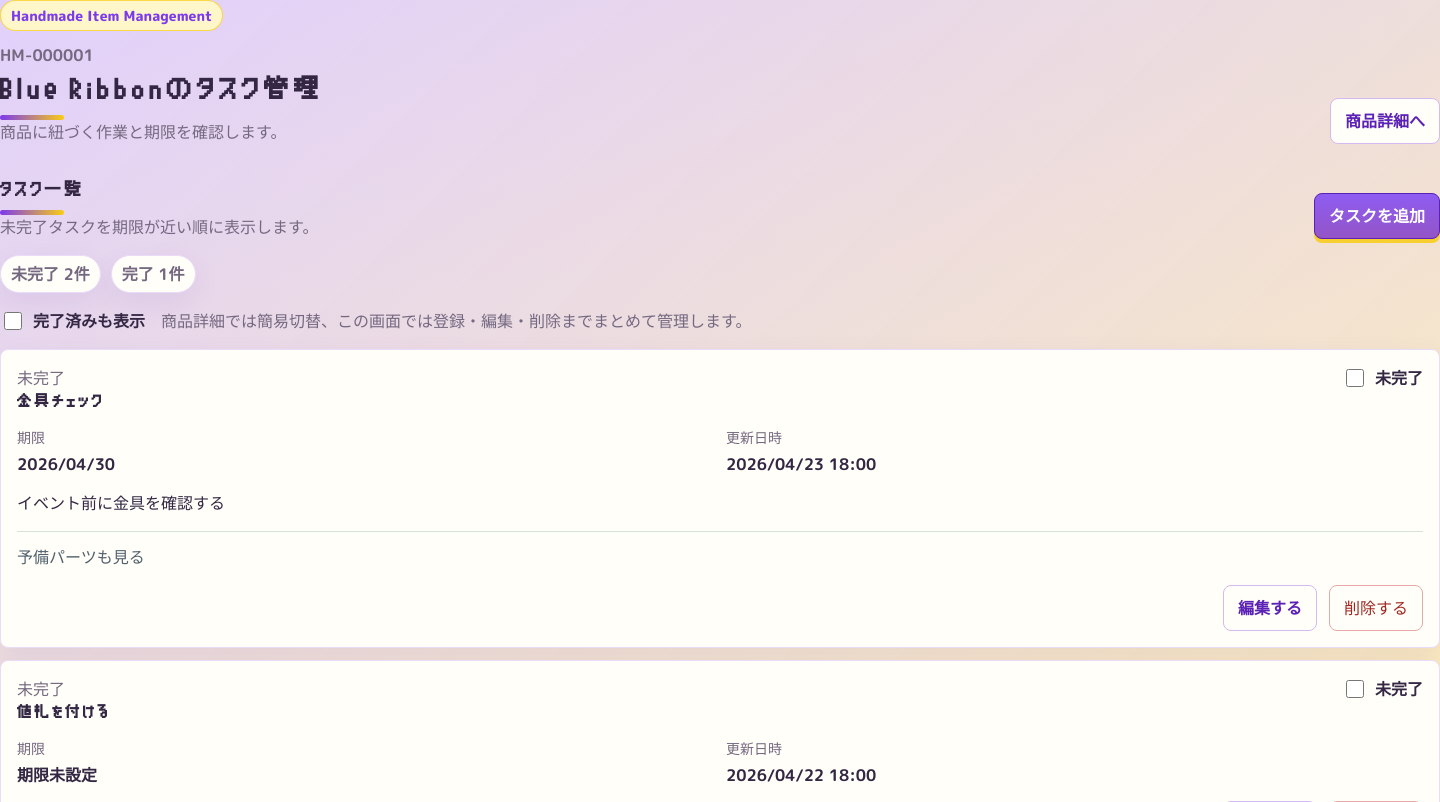
Test: ProductTaskManagementPage › deletes a task after confirmation
Expected: the heading "金具チェック" is shown, [17, 390, 105, 413]
Expected: the list item "金具チェック" is shown, [17, 392, 105, 410]
Click the 1st button "削除する" at (1376,608), box [1329, 585, 1423, 631]
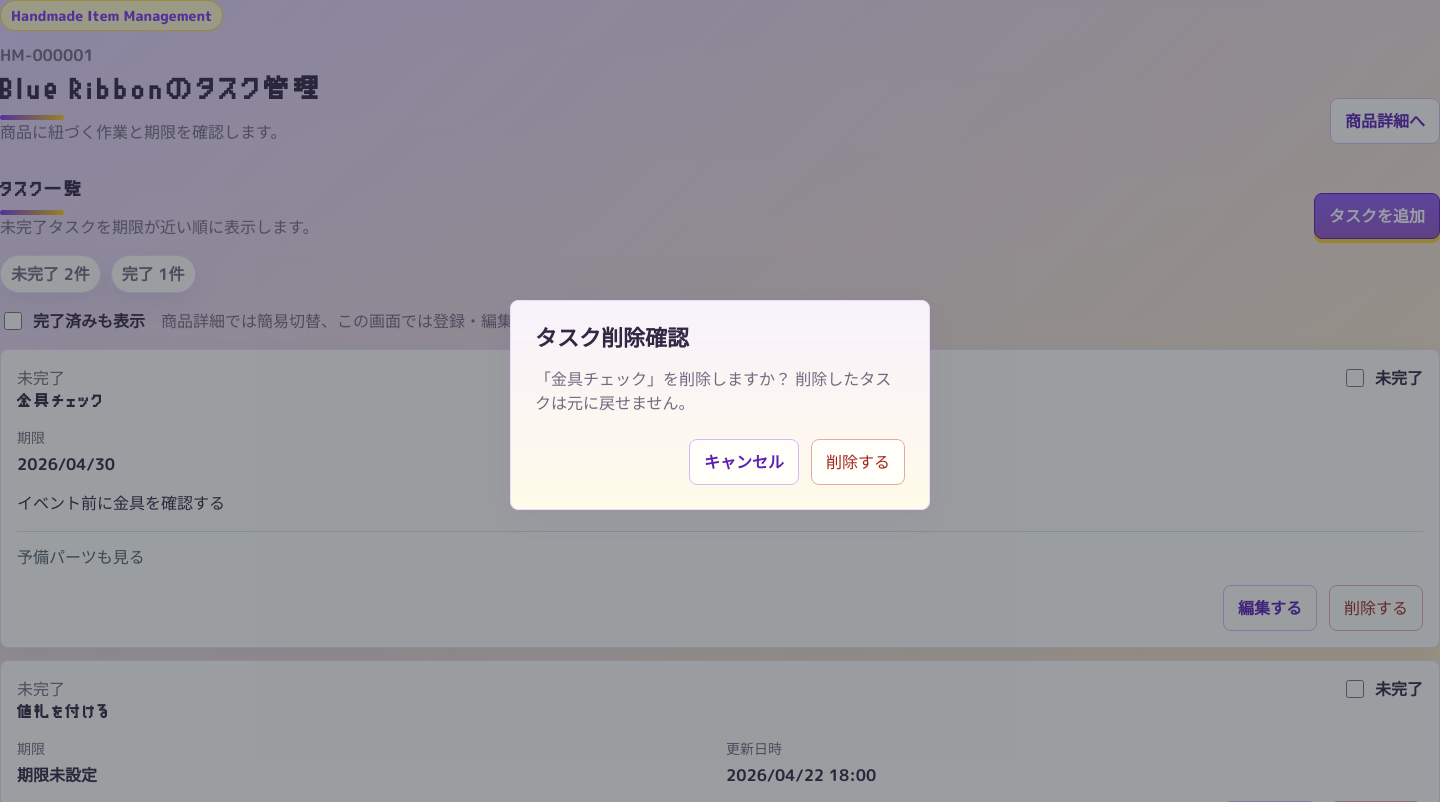
Expected: the text "「金具チェック」を削除しますか？ 削除したタスクは元に戻せません。" is shown, [535, 367, 905, 415]
Click the button "削除する" at (858,462), box [811, 439, 905, 485]
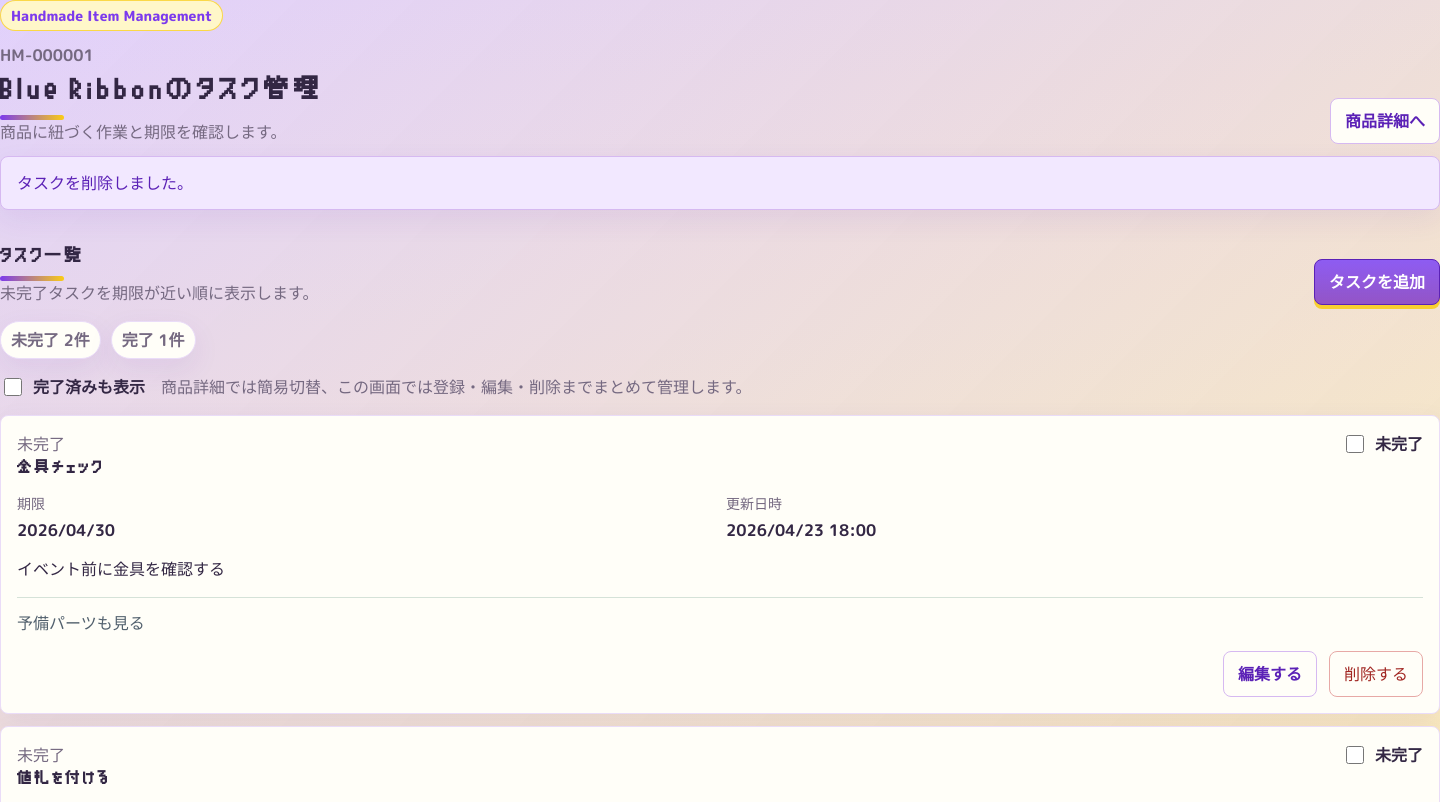
Expected: the text "タスクを削除しました。" is shown, [17, 172, 193, 194]
